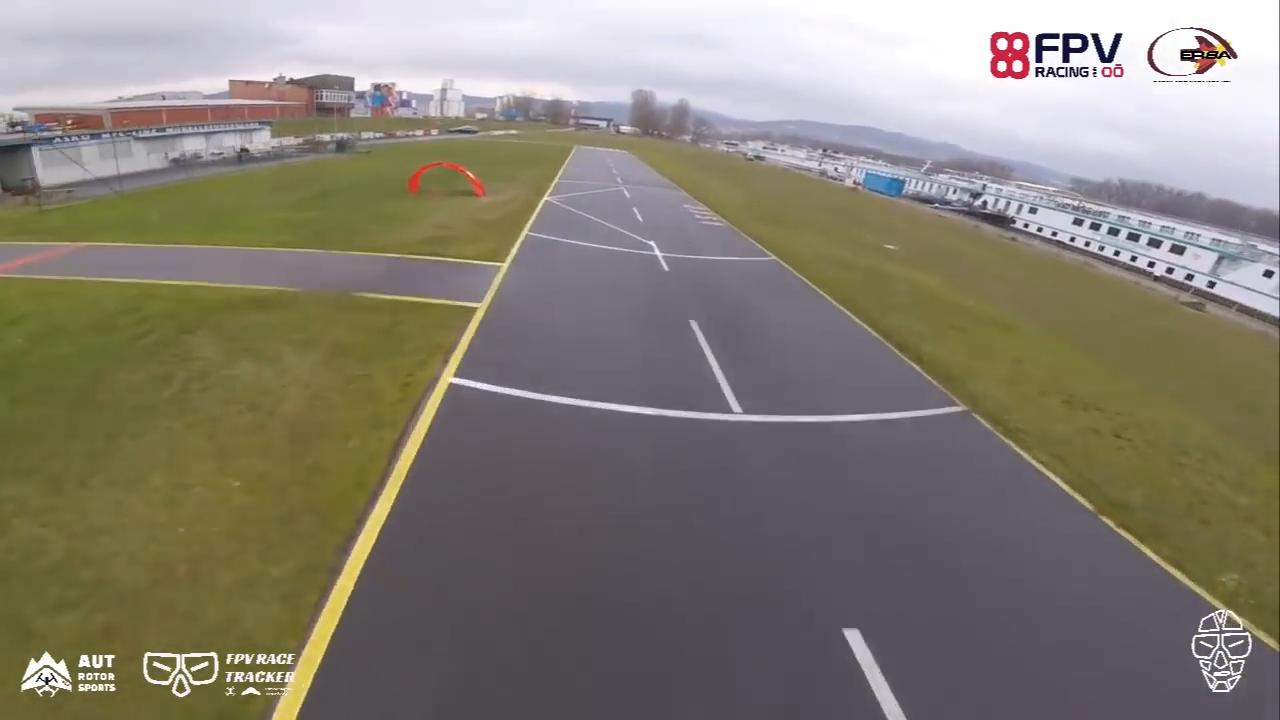gate: (409, 160, 487, 205)
